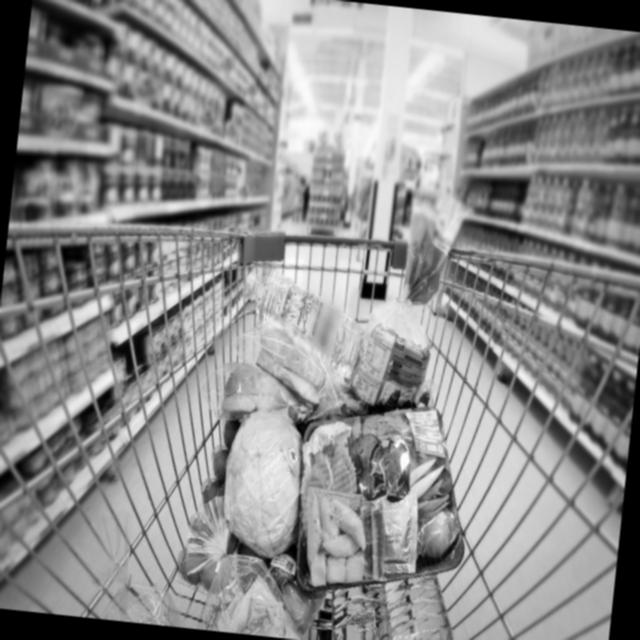bap cai: (220, 400, 312, 558)
bread: (350, 204, 466, 416), (214, 569, 315, 640)
egg: (182, 412, 249, 590)
oil: (232, 268, 371, 373)
